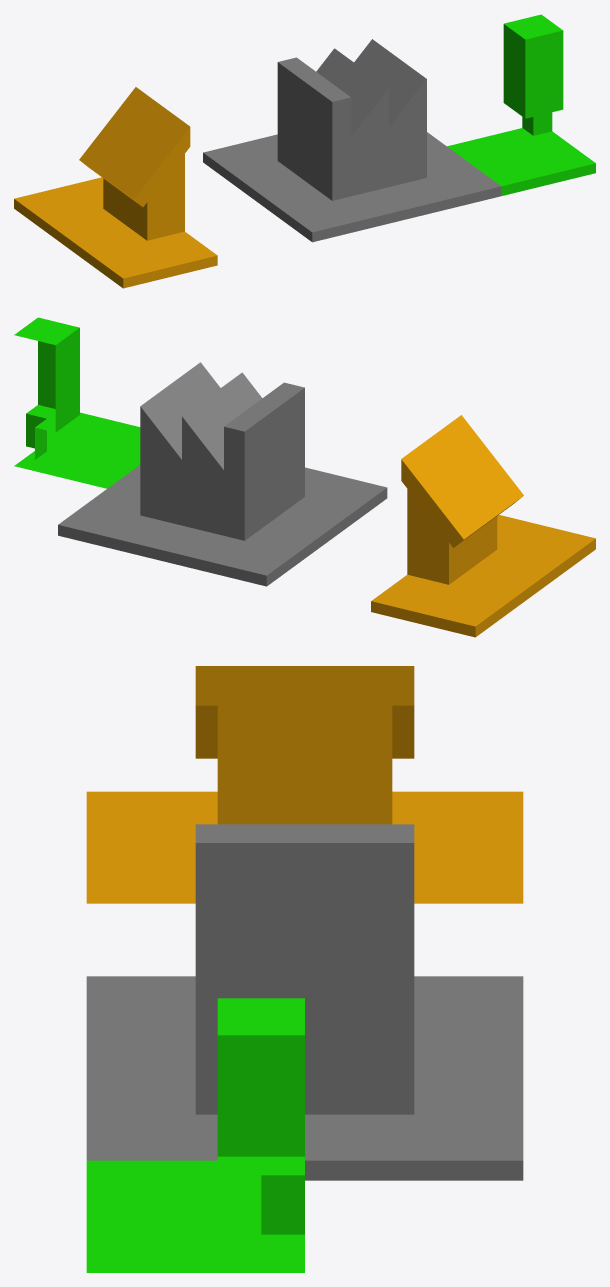
File: tree.dae
3 renders of one model, top to bottom at view 1: azimuth 30°, elevation 25°; view 2: azimuth 150°, elevation 25°; view 3: azimuth 270°, elevation 25°, orthographic. The views are drawn at different scales.
Visible parts, largest first — view 1: Cube.001, Cube, Cube.002; view 2: Cube.001, Cube, Cube.002; view 3: Cube.001, Cube, Cube.002.
Part boxes in pixels (x1,y1,x2,y2): Cube.001: (203, 39, 501, 242); Cube: (14, 87, 217, 288); Cube.002: (447, 14, 595, 195); Cube.001: (58, 362, 387, 586); Cube: (371, 415, 595, 637); Cube.002: (14, 317, 140, 488); Cube.001: (86, 824, 523, 1180); Cube: (86, 666, 523, 903); Cube.002: (86, 998, 304, 1272).
Size of the model in its own units: 0.05 by 0.02 by 0.012.
